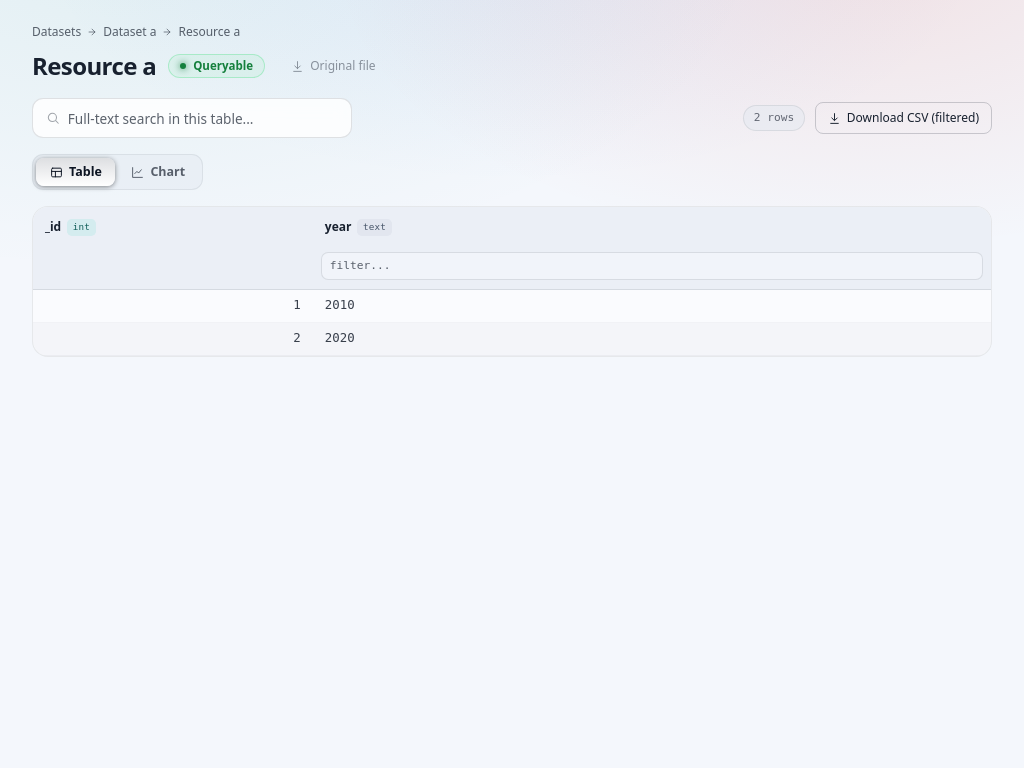
Scenario: ResourcePage navigation › a filter a held live table cannot read (a range on a text column) prepares the file, as before
Expected: the text "2010" is shown, [313,290,991,323]
Type ">2015" into the field labelled "filter...". click: (652, 266)
box: [321,252,983,280]
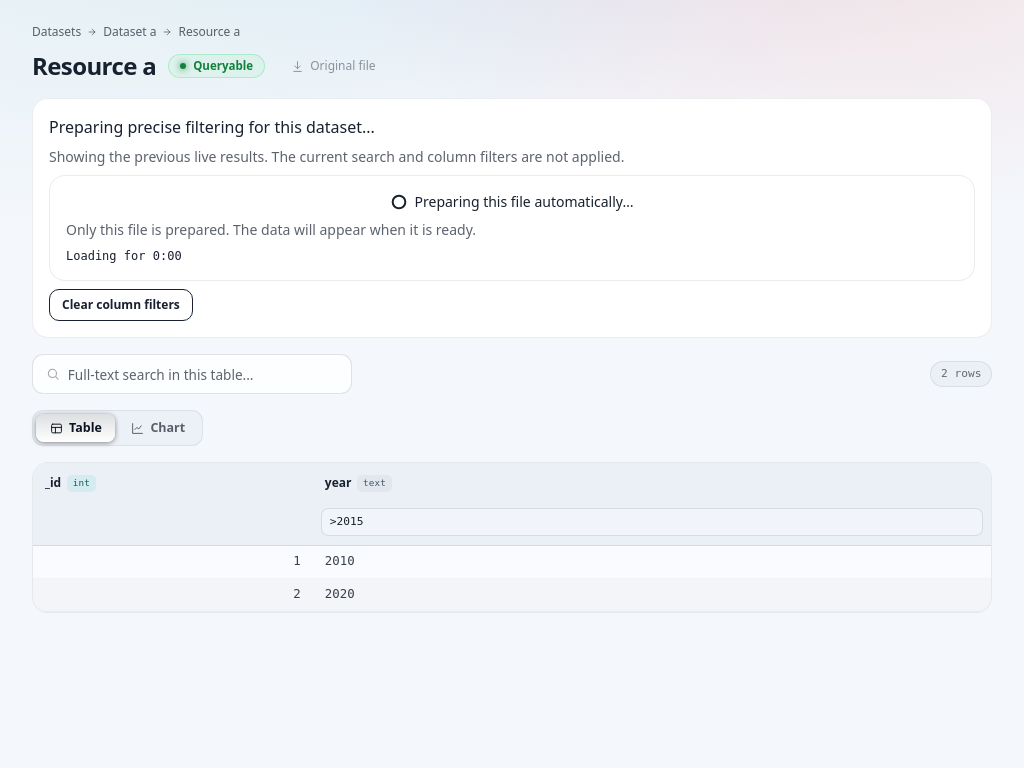
Expected: the text "Preparing precise filtering for this dataset..." is shown, [49,116,375,138]
Expected: the link "Download CSV (filtered)" is gone
